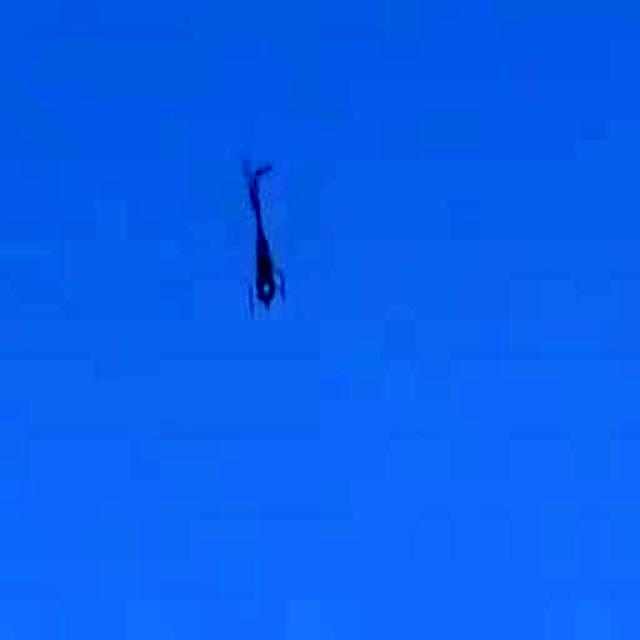drone: (172, 132, 339, 340)
